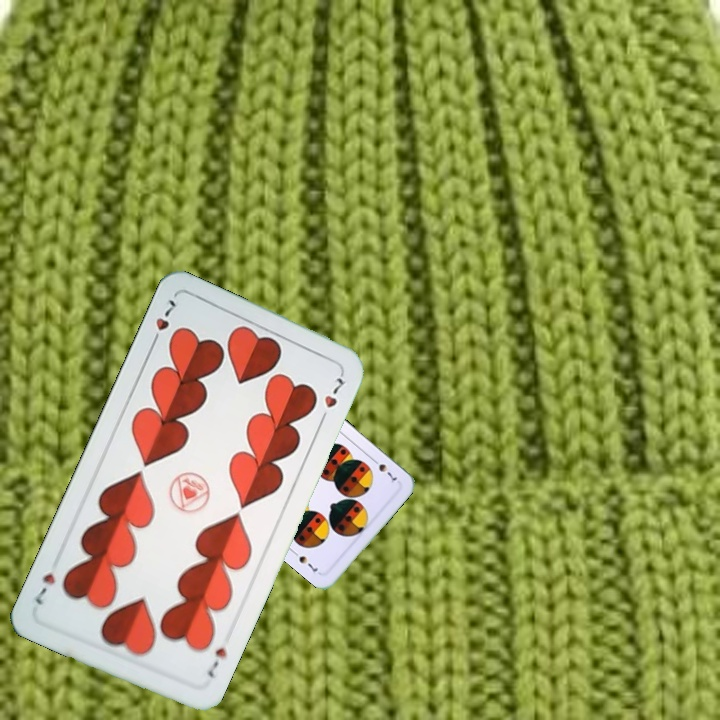H7: (147, 295, 179, 349), (203, 643, 229, 680)
S7: (367, 454, 400, 486)
